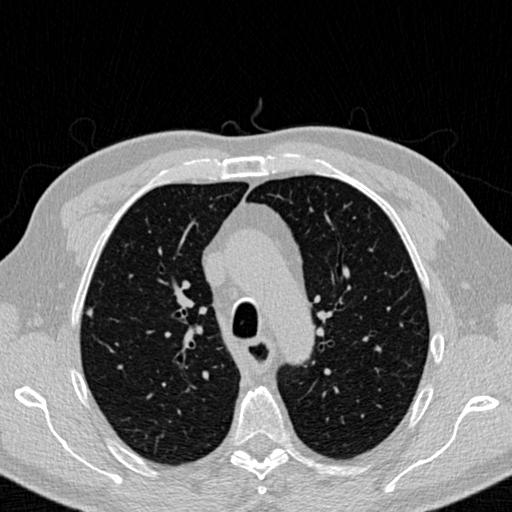nodule: (83, 306, 96, 319)
